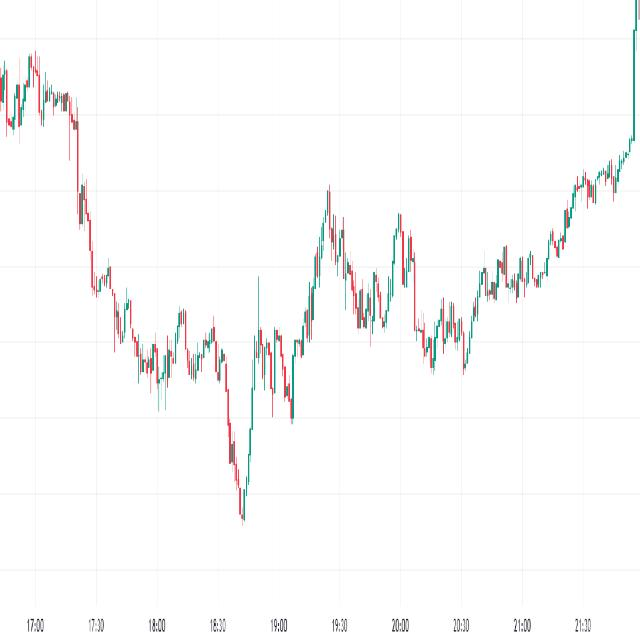Inverse-Head-Shoulders: (208, 306, 282, 532)
